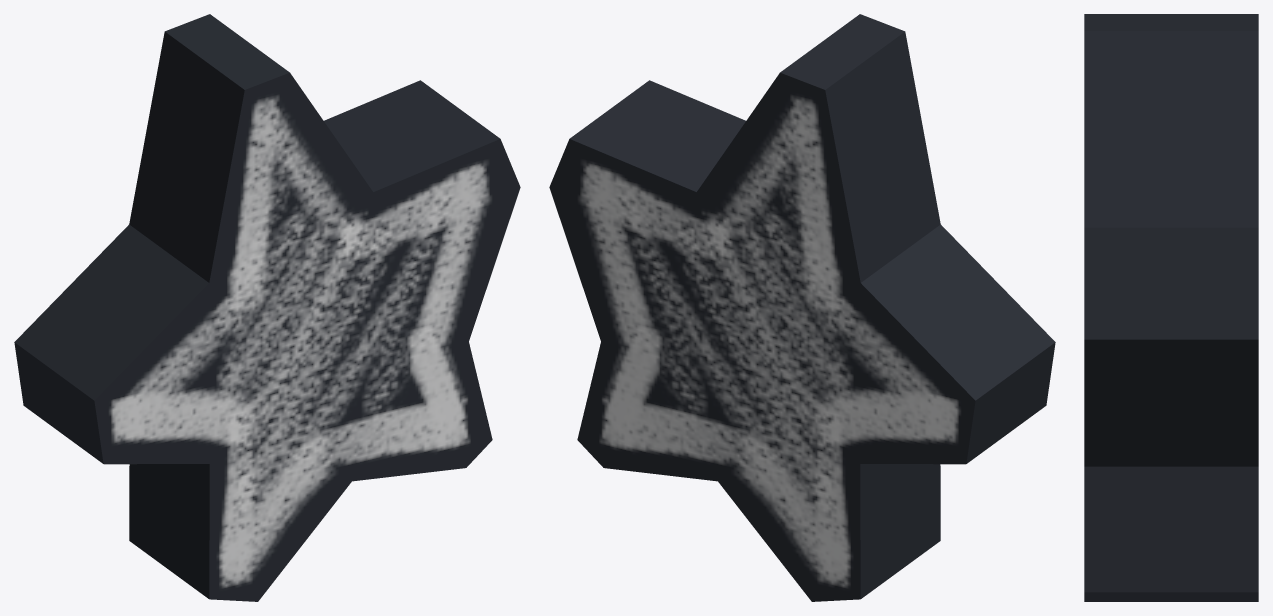
The model's file is Star6.fbx.
The picture shows the model from 3 angles, left to right: view 1: azimuth 30°, elevation 25°; view 2: azimuth 150°, elevation 25°; view 3: azimuth 270°, elevation 25°; orthographic projection. The views are drawn at different scales.
Parts seen in each view (by area): view 1: m_Star3; view 2: m_Star3; view 3: m_Star3.
Part boxes in pixels (left/top/right/bottom): m_Star3: left=14, top=14, right=520, bottom=601; m_Star3: left=549, top=14, right=1055, bottom=601; m_Star3: left=1084, top=14, right=1258, bottom=601.
Bounding box in the file's own units: 0.3074 × 0.3595 × 0.1.
